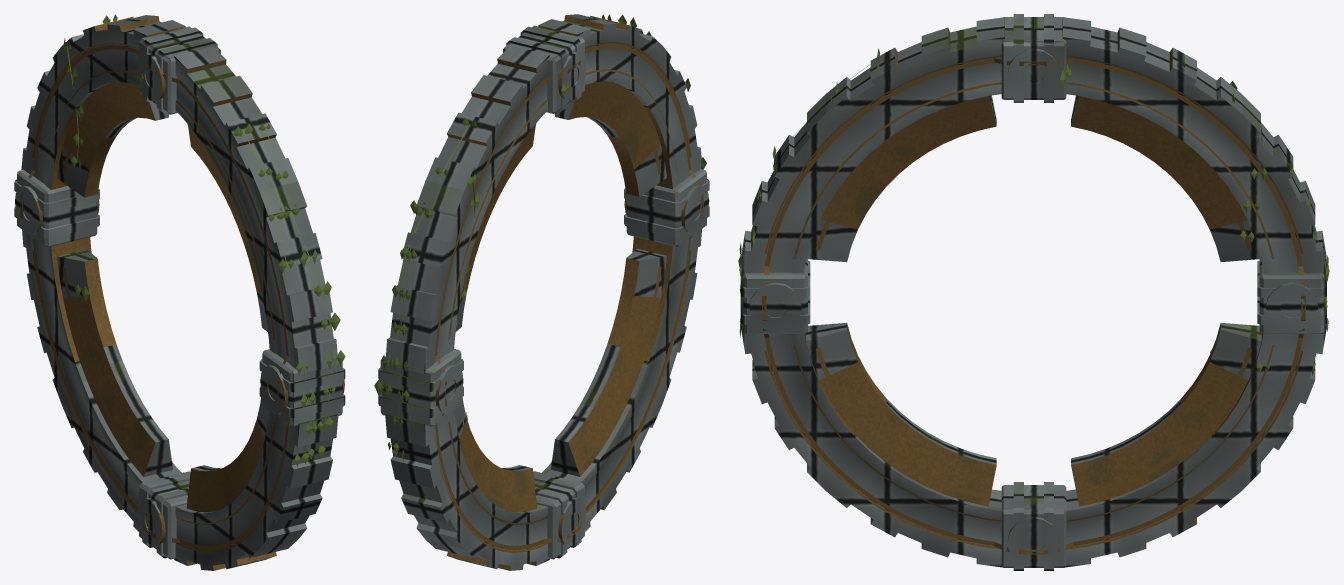
File: BigGear.fbx
The picture shows the model from 3 angles, left to right: view 1: azimuth 30°, elevation 25°; view 2: azimuth 150°, elevation 25°; view 3: azimuth 270°, elevation 25°; orthographic projection. The views are drawn at different scales.
Visible parts, largest first — view 1: BigGear.003; view 2: BigGear.003; view 3: BigGear.003.
Part boxes in pixels (box(x1,y1,x2,y2)): BigGear.003: box(14, 14, 345, 570); BigGear.003: box(374, 14, 709, 570); BigGear.003: box(738, 14, 1329, 570).
Size of the model in its own units: 6.81 by 49.55 by 49.99.
4 materials, 3 textured.
